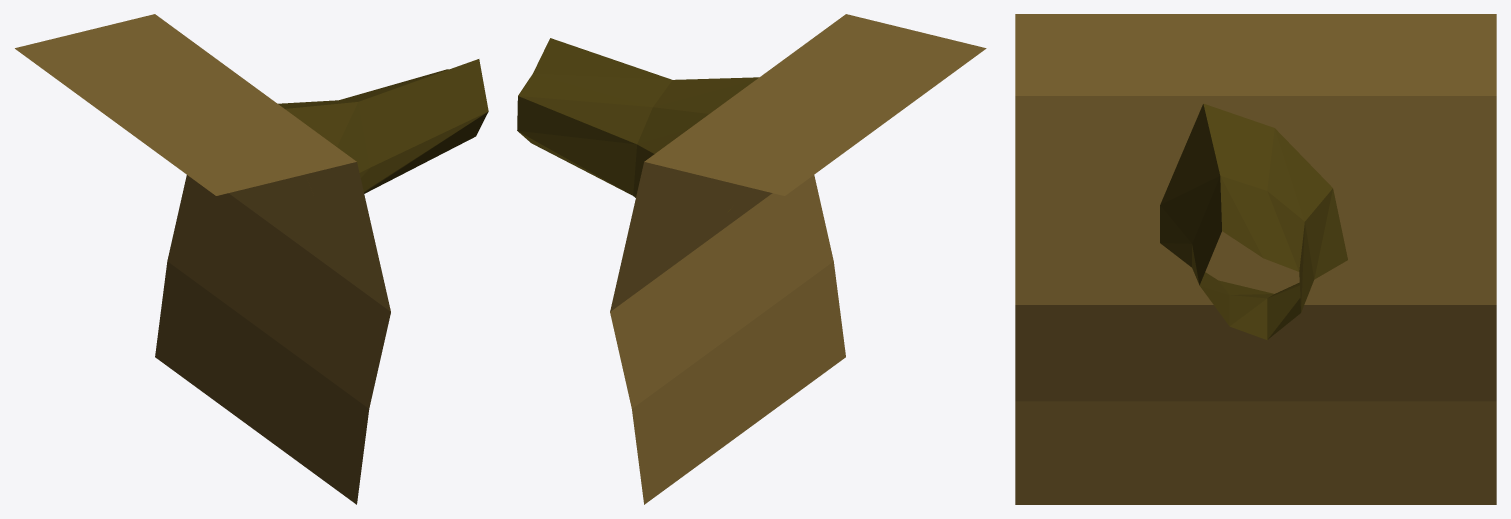
File: obj_rock_12_0.obj
3 views of the same model, side by side, from view 1: azimuth 30°, elevation 25°; view 2: azimuth 150°, elevation 25°; view 3: azimuth 270°, elevation 25° (orthographic). The views are drawn at different scales.
Size of the model in its own units: 2 by 1.88 by 2.
